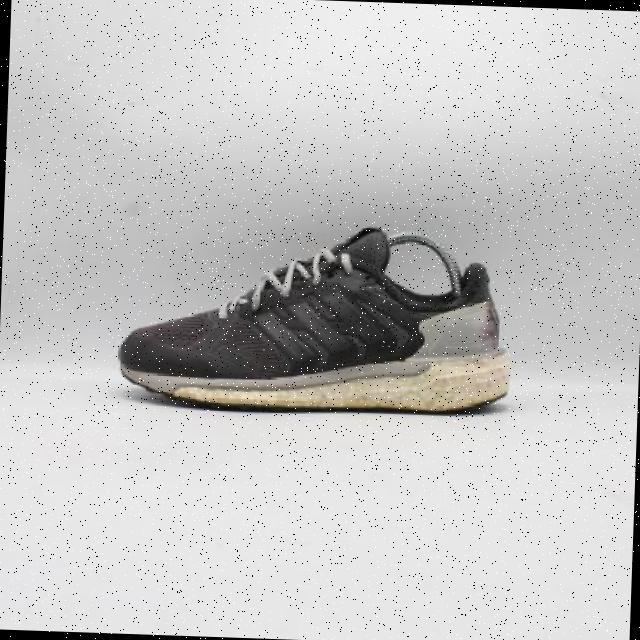Adidas: (248, 283, 396, 383)
